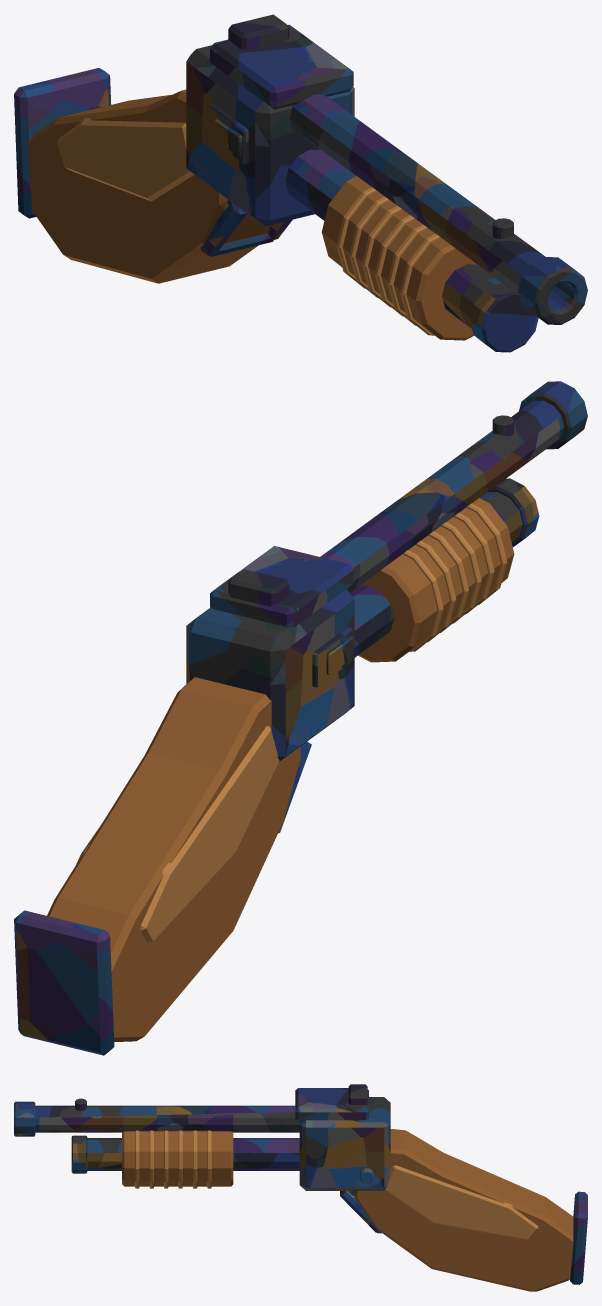
Rendered from Remington870_HardenedSteel.glb.
The picture shows the model from 3 angles, top to bottom: view 1: azimuth 30°, elevation 25°; view 2: azimuth 150°, elevation 25°; view 3: azimuth 270°, elevation 25°; orthographic projection. The views are drawn at different scales.
Visible parts, largest first — view 1: FTF_Weapon_Remington870_PumpShotgun_Mesh; view 2: FTF_Weapon_Remington870_PumpShotgun_Mesh; view 3: FTF_Weapon_Remington870_PumpShotgun_Mesh.
Boxes of the visible parts, bbox=[...] form: FTF_Weapon_Remington870_PumpShotgun_Mesh: bbox=[14, 14, 587, 352]; FTF_Weapon_Remington870_PumpShotgun_Mesh: bbox=[14, 381, 587, 1055]; FTF_Weapon_Remington870_PumpShotgun_Mesh: bbox=[14, 1084, 587, 1291].
Size of the model in its own units: 0.271 by 0.7341 by 1.99.
Materials: 3 (1 with a texture image).
